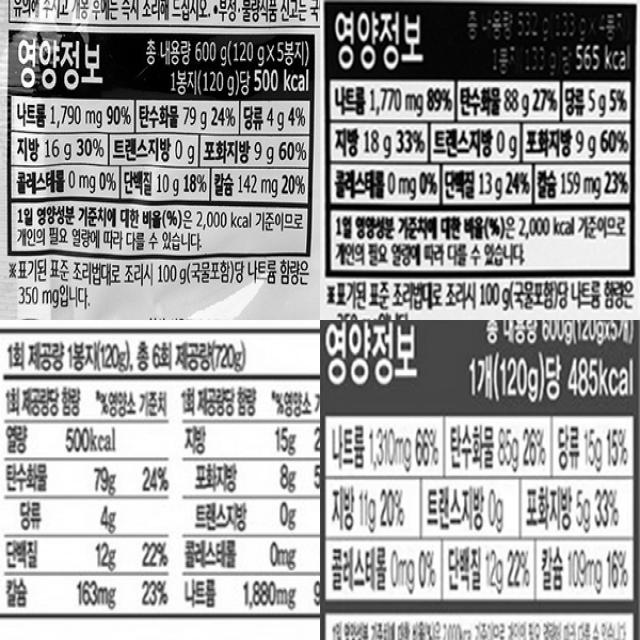Nutrition Label: (2, 26, 323, 315)
